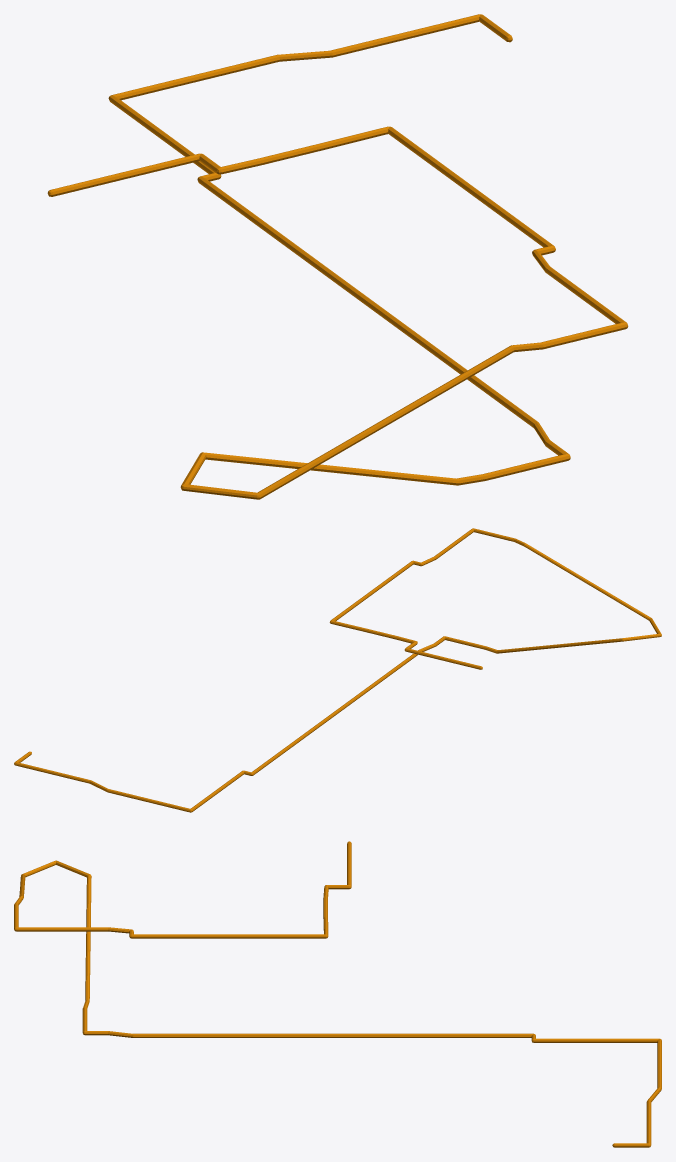
The picture shows the model from 3 angles, top to bottom: view 1: azimuth 30°, elevation 25°; view 2: azimuth 150°, elevation 25°; view 3: azimuth 270°, elevation 25°; orthographic projection. The views are drawn at different scales.
Size of the model in its own units: 2407 by 520 by 2831.
